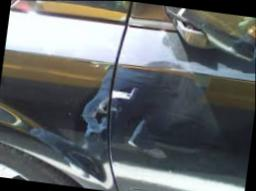Door: (74, 61, 143, 143)
